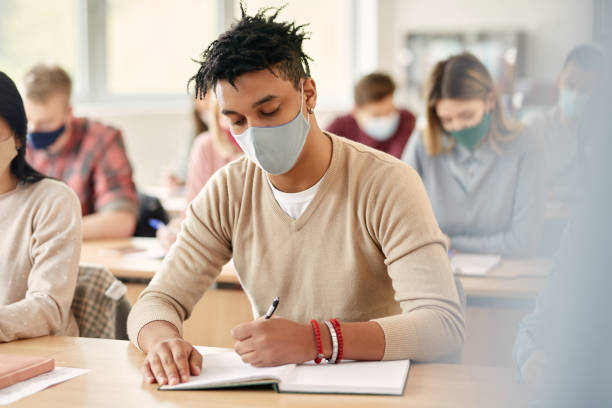with mask: (212, 68, 324, 183), (21, 69, 82, 148), (435, 73, 496, 152), (551, 45, 600, 123), (350, 70, 402, 140)
